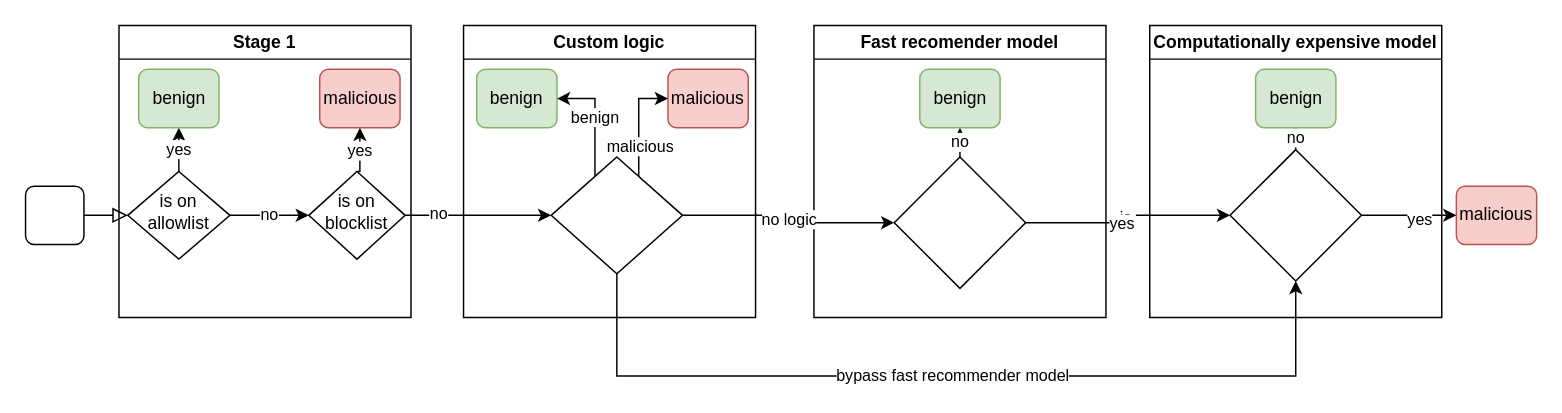
Image size: 1562x413. Some labels were removed from this diagram. Here are the shapes that lost their labels. From the top down, the centre of each, then its label:
At point 54,215: "URL".
At point 616,214: "what logic should be applied".
At point 959,221: "recommends inspection?".
At point 1295,214: "is the content malicious?".
